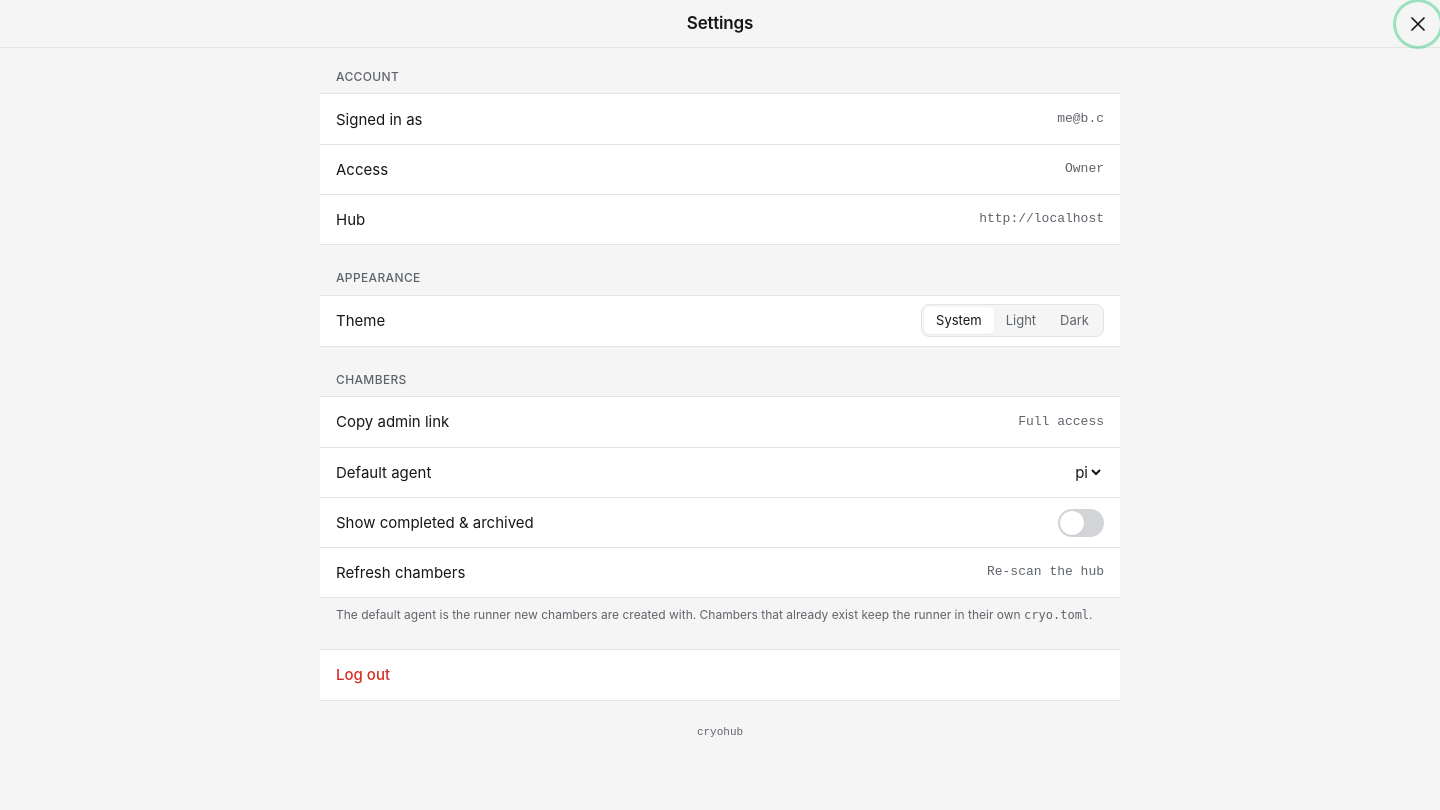
Test: owner-only rows › shows the hub error when the default agent cannot be saved
Select "codex" in the dropdown labelled "Default agent": (774, 473) [443, 462, 1104, 483]
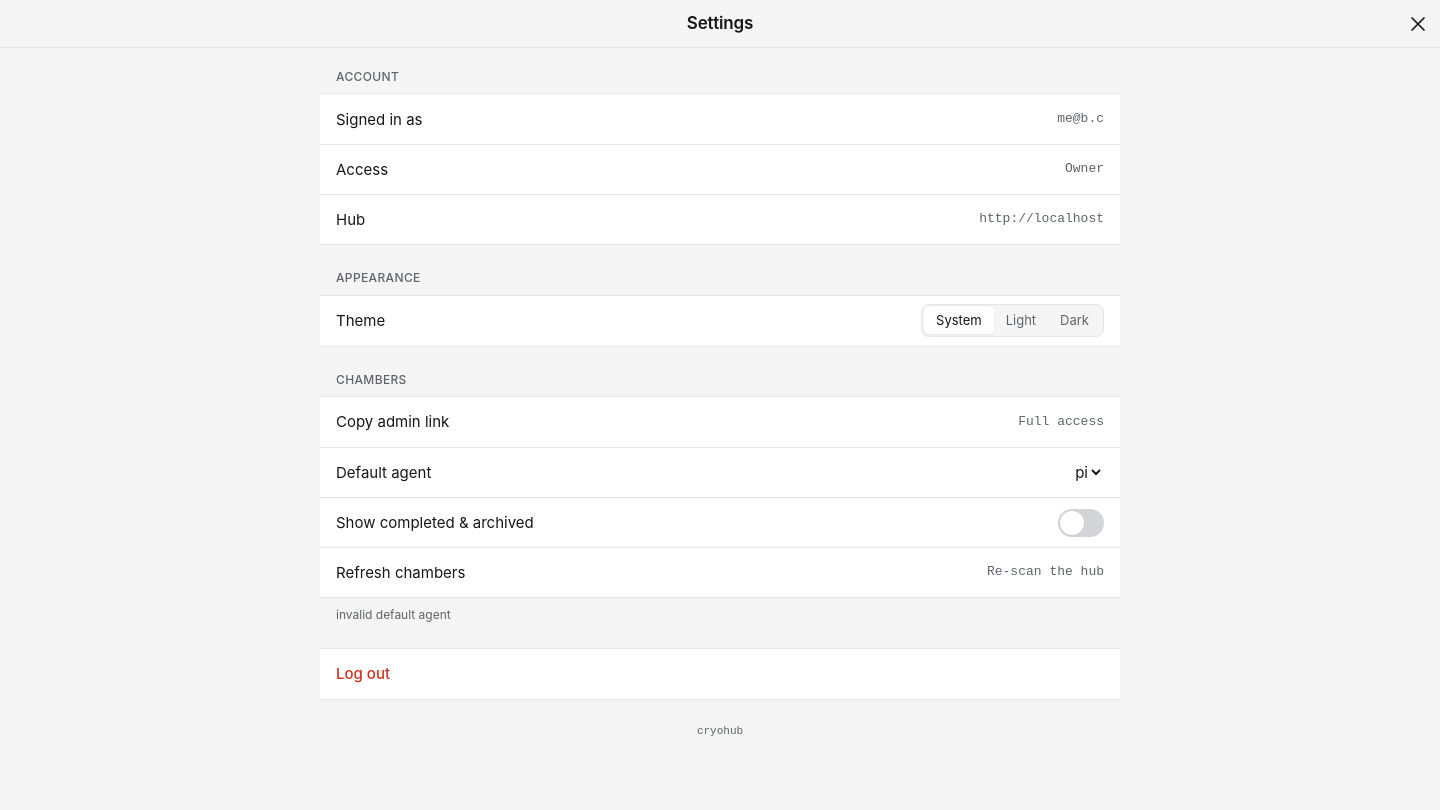
Expected: the message reads "invalid default agent", [336, 607, 451, 622]
